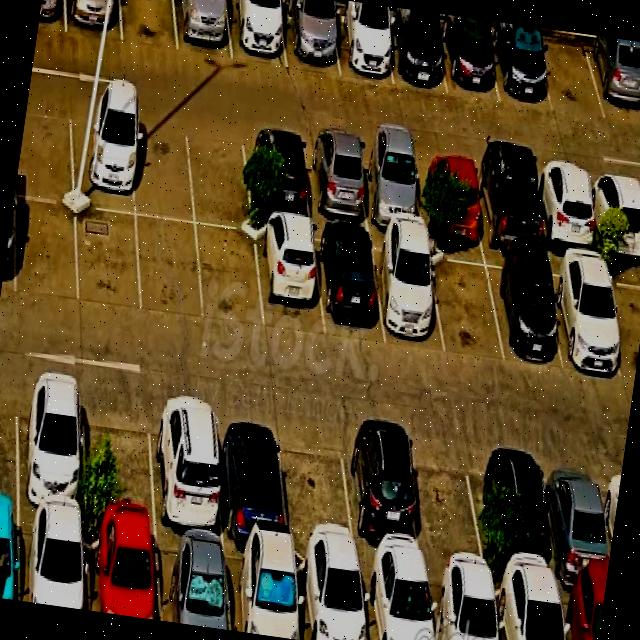empty: (412, 430, 488, 576), (279, 415, 357, 557), (84, 383, 157, 529), (428, 245, 504, 361), (186, 120, 252, 232), (132, 112, 195, 222), (77, 207, 141, 315), (137, 217, 204, 320), (196, 227, 263, 329), (17, 197, 79, 303), (15, 96, 74, 203), (536, 32, 605, 119), (605, 260, 640, 381), (121, 0, 178, 51), (0, 371, 18, 506)
occupied: (342, 423, 425, 566), (151, 394, 223, 539), (216, 404, 289, 545), (488, 439, 558, 582), (18, 372, 86, 518), (544, 447, 611, 588), (546, 254, 624, 374), (484, 251, 562, 363), (371, 235, 445, 353), (314, 226, 385, 341), (256, 219, 324, 336), (154, 532, 231, 631), (225, 542, 300, 640), (86, 522, 160, 621), (70, 103, 135, 214), (20, 511, 89, 611), (472, 157, 543, 252), (294, 550, 367, 640), (243, 128, 311, 221), (415, 150, 483, 242), (303, 135, 370, 226), (357, 141, 424, 231), (534, 164, 599, 253), (489, 21, 553, 111), (360, 563, 434, 640), (438, 15, 500, 102), (427, 568, 499, 640), (383, 12, 447, 93), (331, 4, 393, 84), (584, 37, 640, 124), (588, 169, 640, 258), (493, 576, 564, 640), (282, 0, 340, 73), (226, 0, 287, 67), (174, 0, 232, 60), (558, 583, 606, 640), (65, 0, 122, 40), (0, 509, 19, 601), (38, 0, 66, 32)
